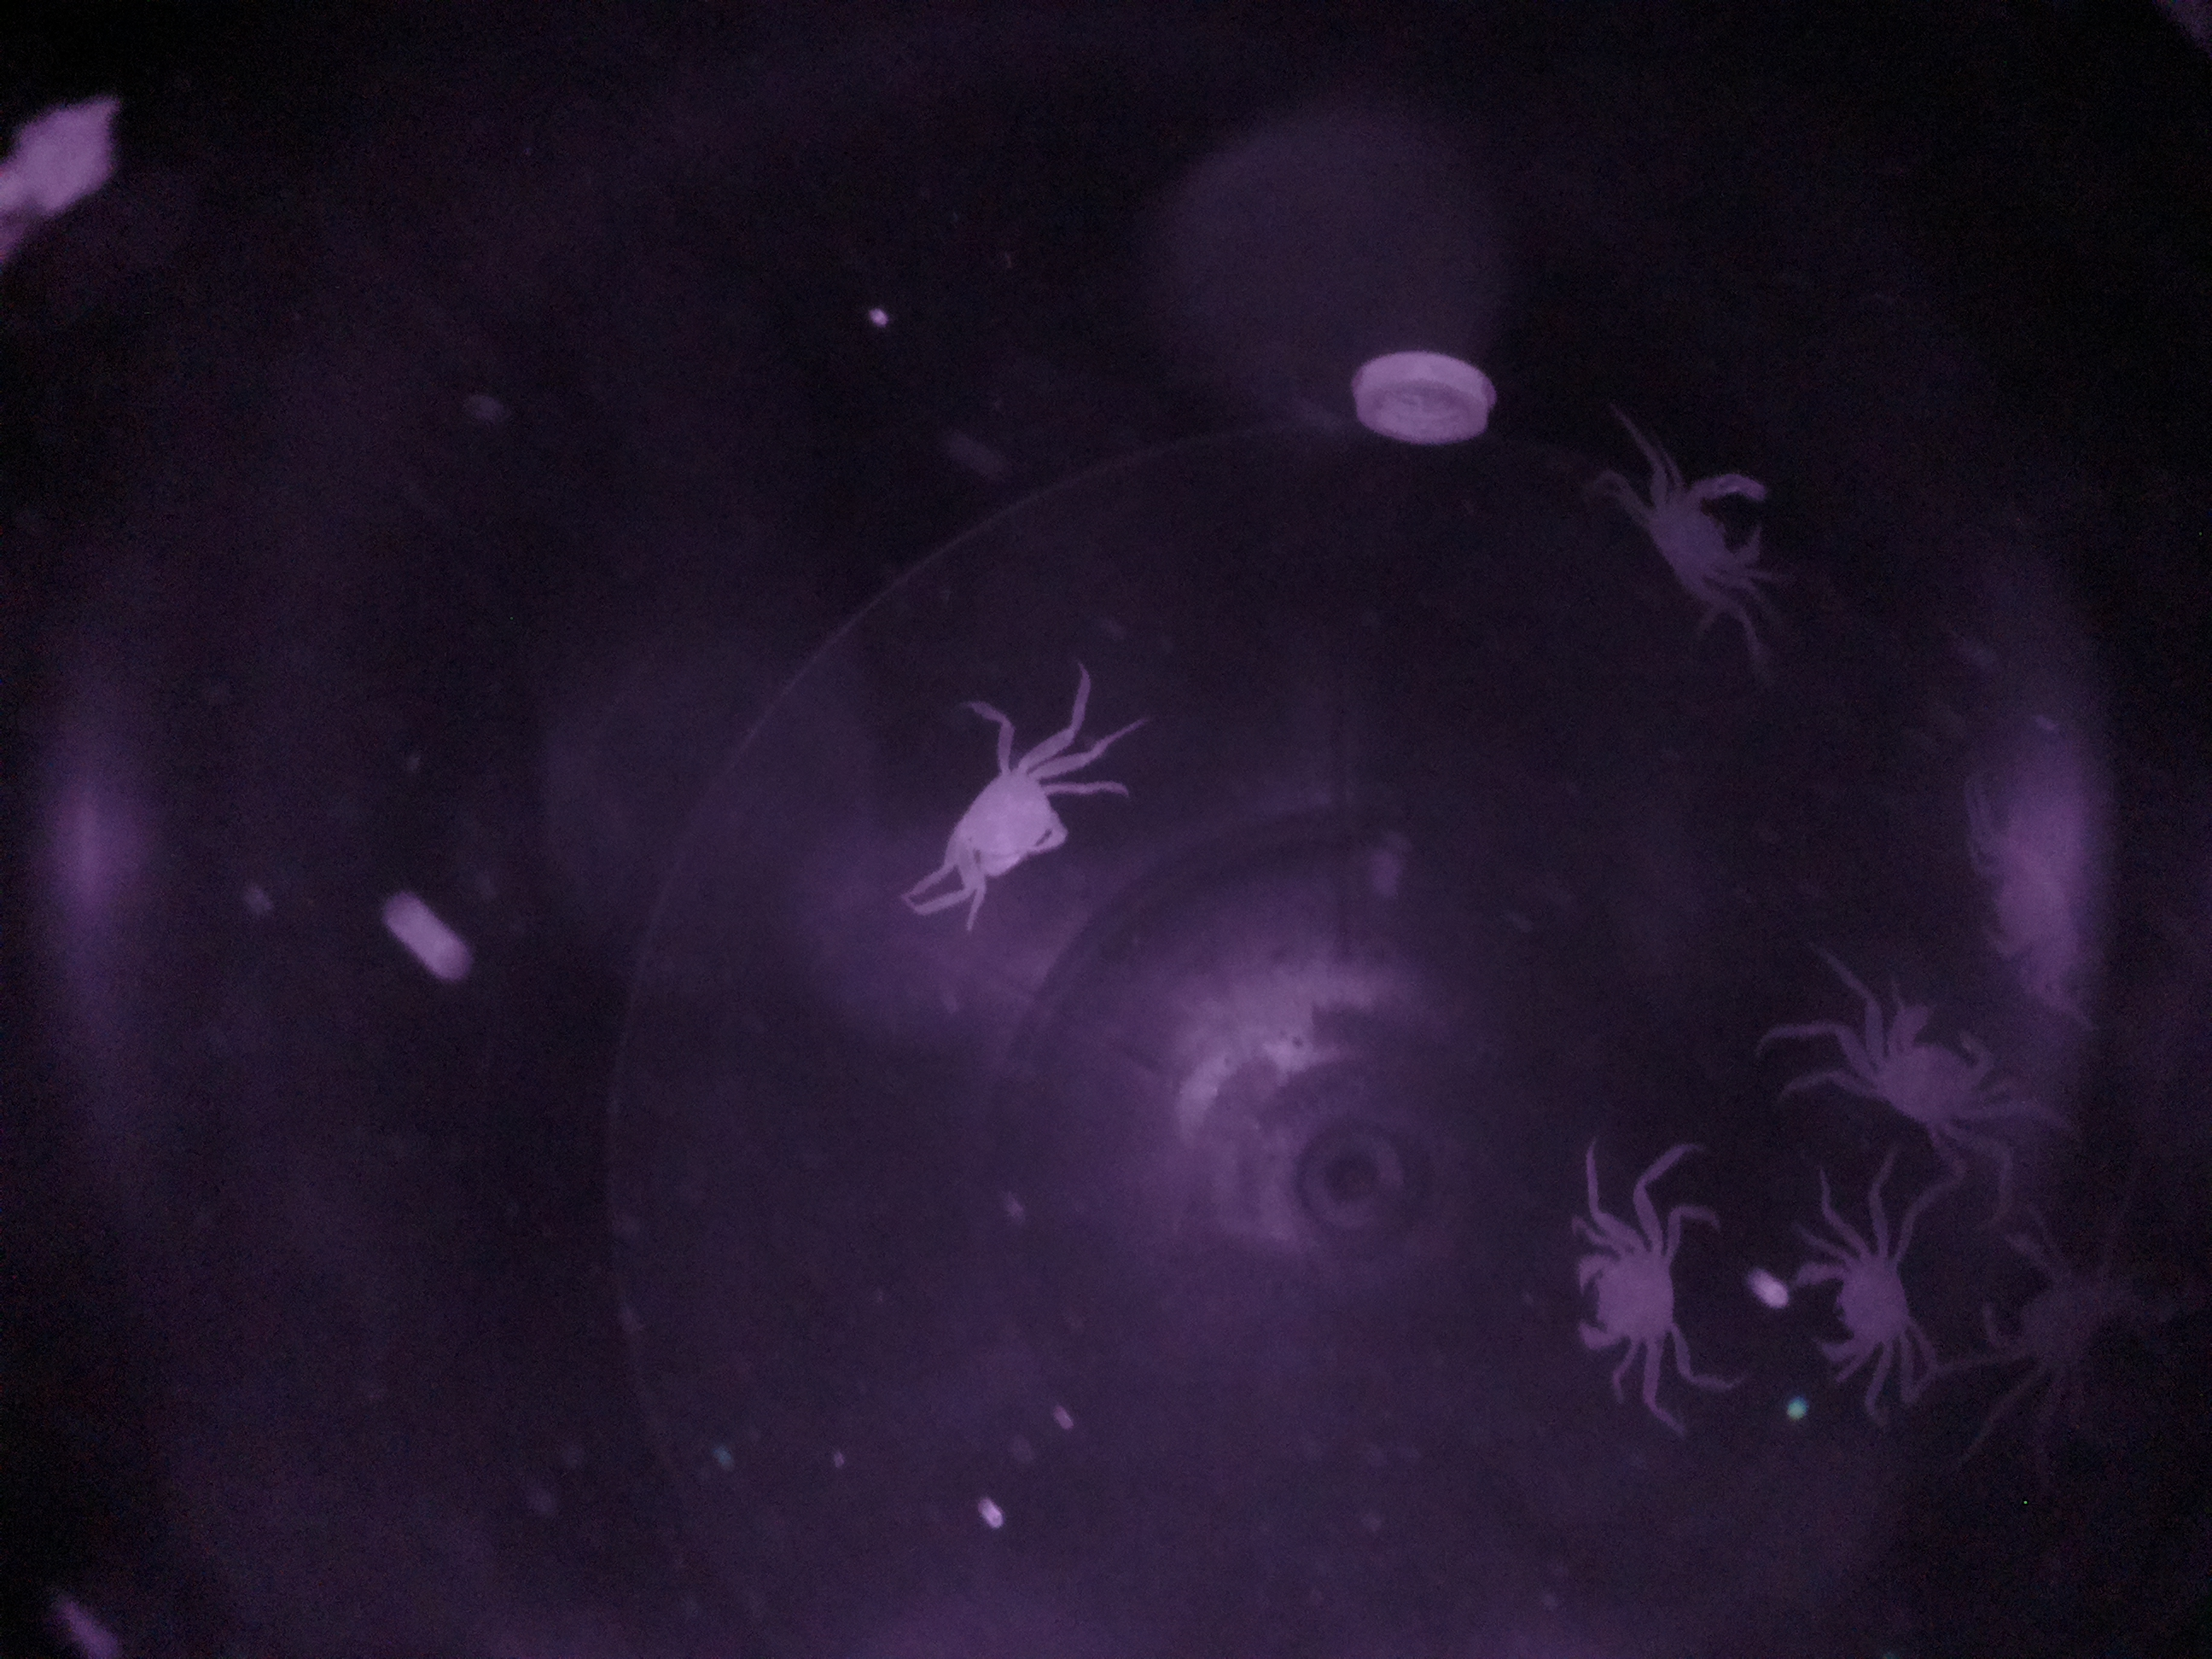Crab: (1857, 965, 2008, 1176), (1608, 460, 1792, 619), (1787, 1220, 1940, 1384), (1575, 1222, 1689, 1373)
